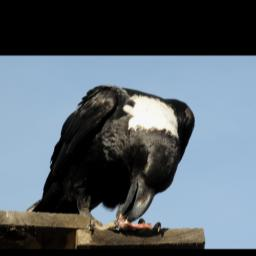Crow: (25, 81, 198, 235)
